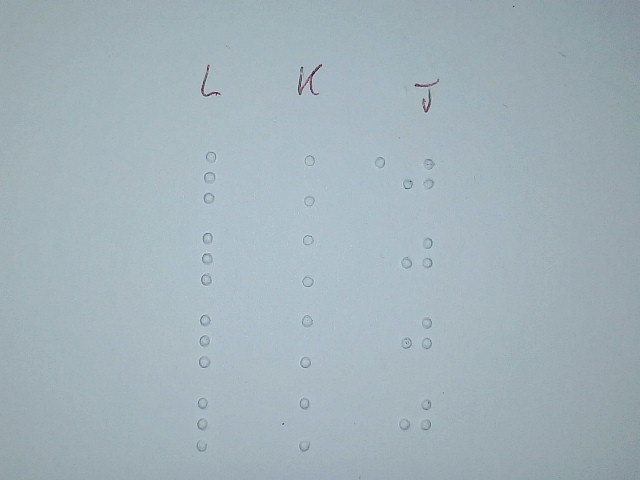K: (296, 152, 334, 208), (400, 150, 438, 206), (295, 232, 333, 288), (294, 313, 332, 369), (292, 396, 330, 452)
L: (197, 149, 235, 205), (194, 230, 232, 286), (193, 312, 231, 368), (189, 396, 227, 452)
